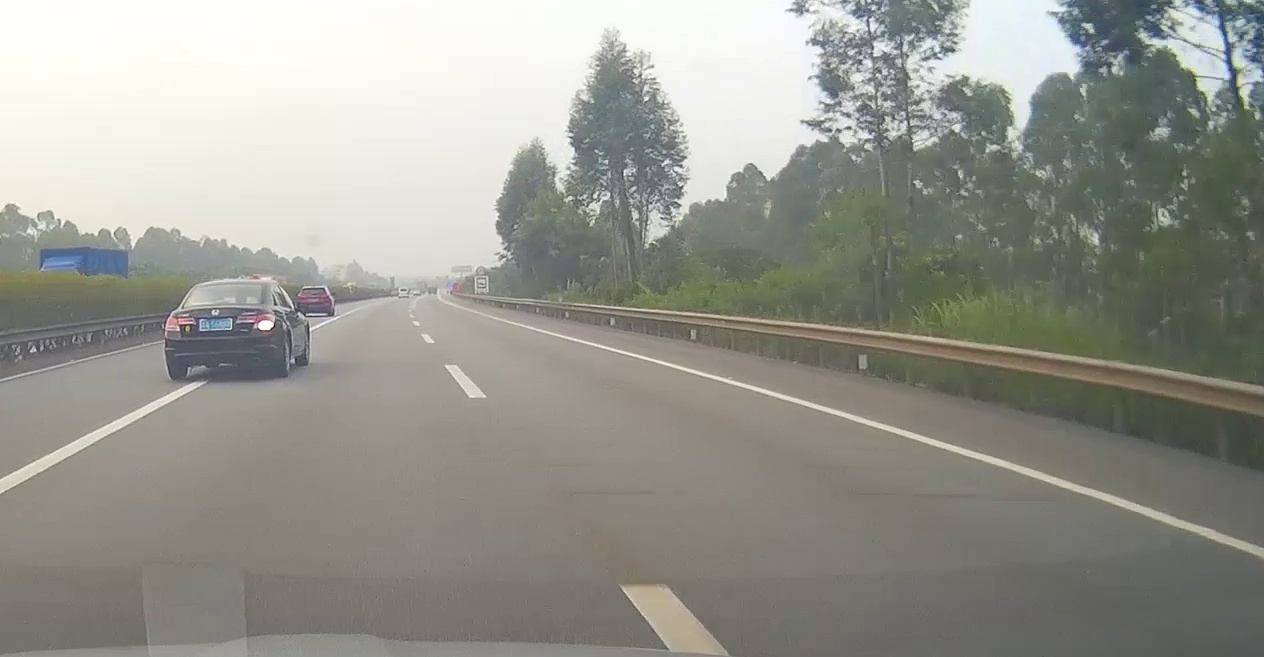L_light: (166, 315, 195, 332), (298, 296, 304, 300)
R_light: (236, 313, 276, 332), (323, 295, 329, 299)
T_light: (220, 284, 237, 288), (312, 289, 318, 290)
day-no: (297, 287, 332, 316)
day-right: (164, 281, 278, 380)
